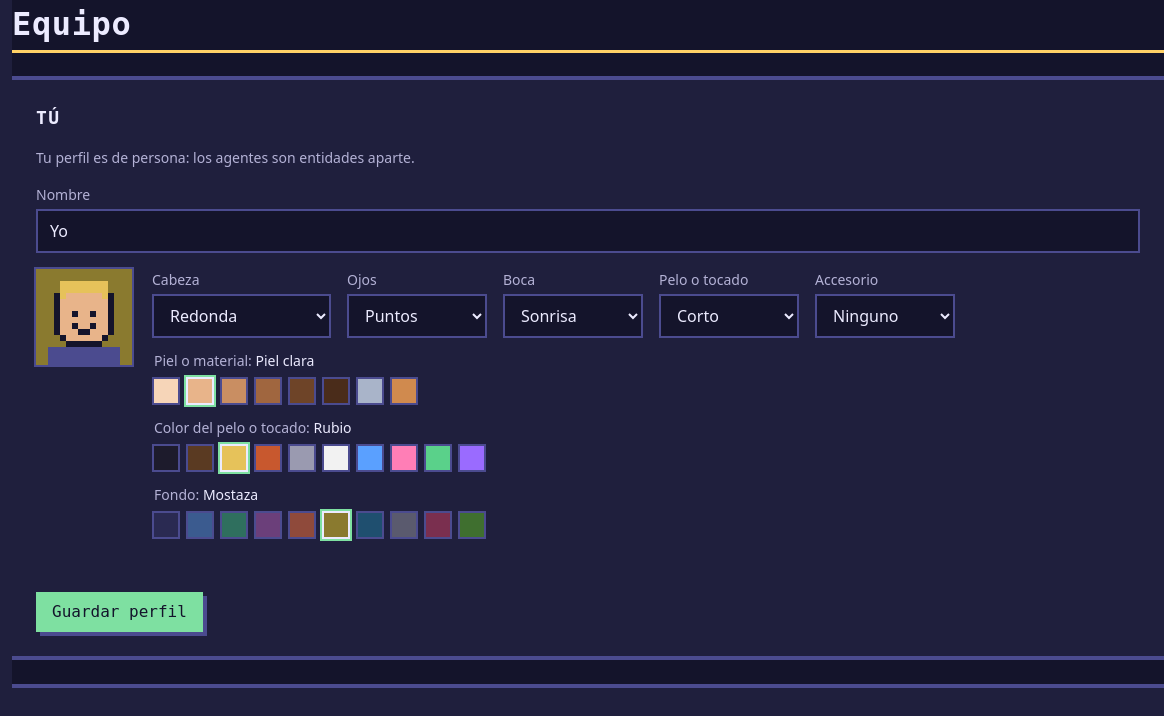
Scenario: TeamView › un conflicto en el perfil conserva lo editado y el reintento usa la revisión vigente
The width and height of the screenshot is (1164, 716).
Step 1. Replace the text in the field labelled "Nombre" with "Mío" → [588, 231], box [36,209,1140,253]
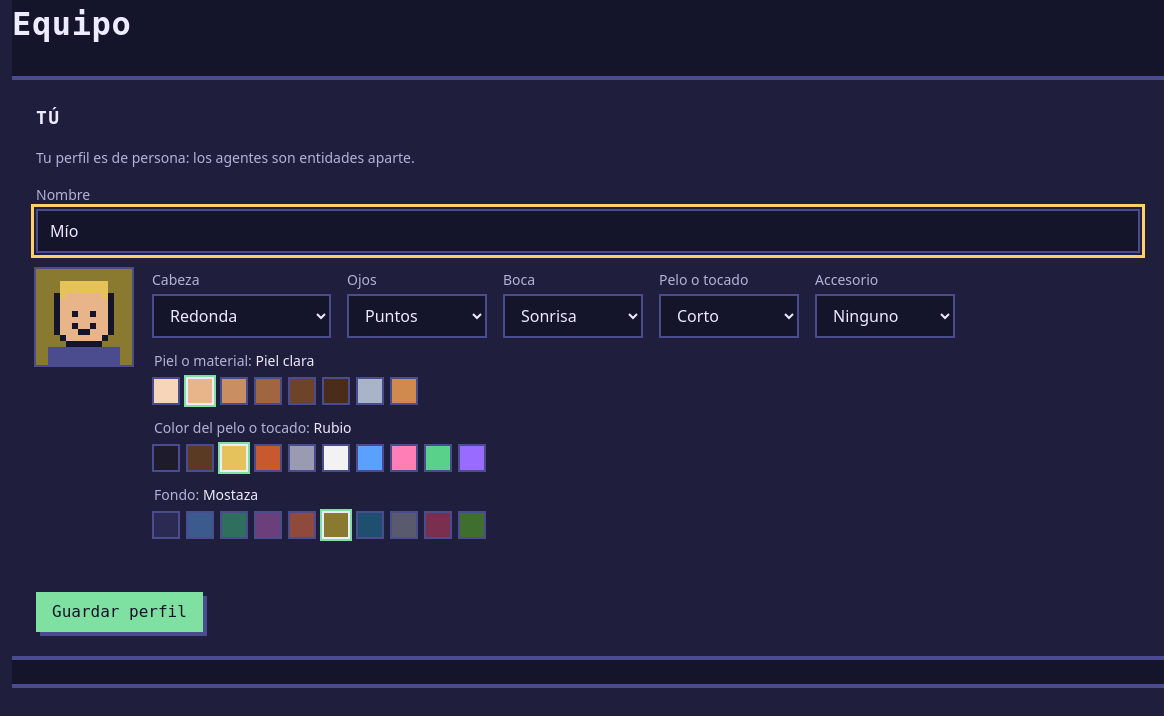
Step 2. Click the button "Guardar perfil" → [119, 612], box [36,592,203,632]
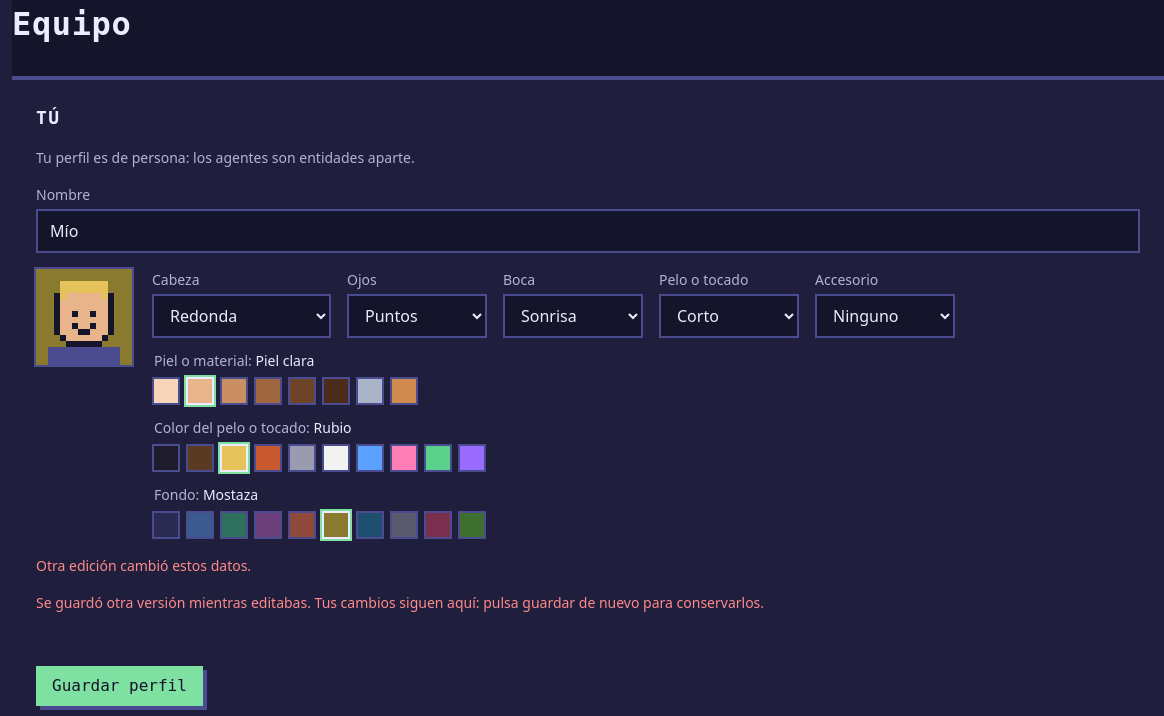
expect the text "Tus cambios siguen aquí" is shown: met, box [36,593,764,612]
Step 3. Click the button "Guardar perfil" → [119, 686], box [36,666,203,706]
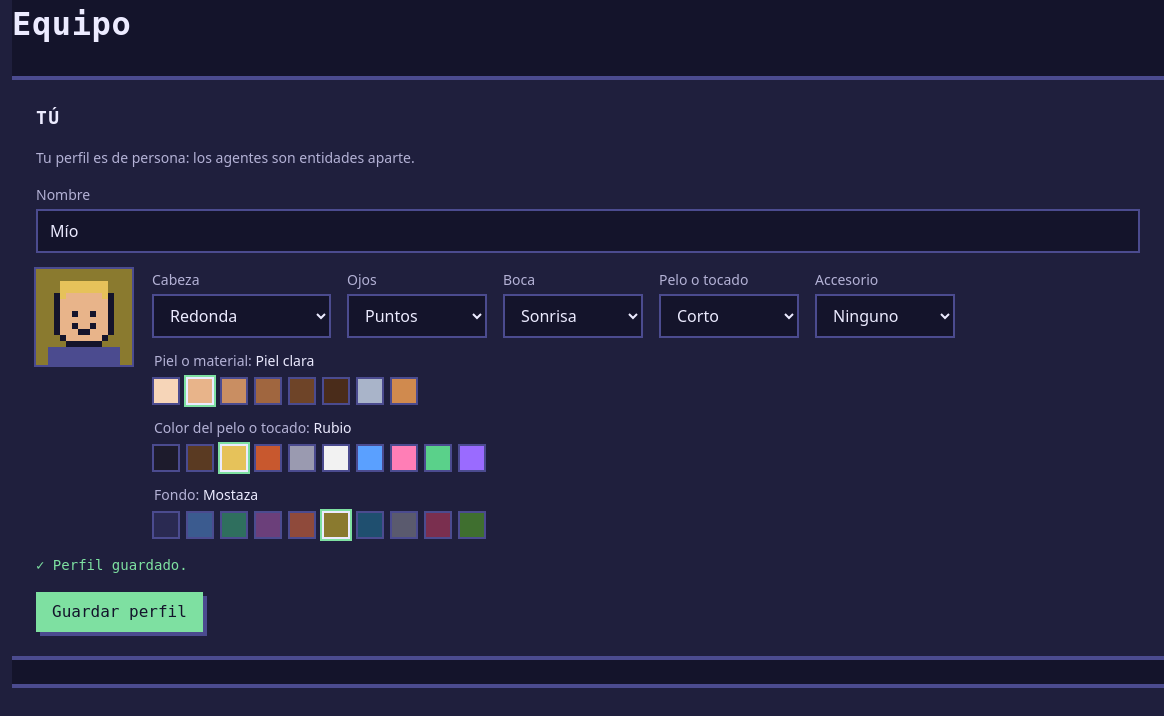
expect the text "✓ Perfil guardado." is shown: met, box [36,557,188,573]
